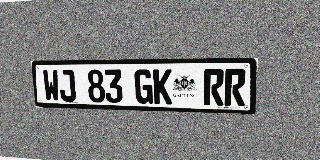3: (104, 69, 123, 103)
8: (87, 69, 105, 103)
G: (134, 69, 153, 104)
J: (58, 70, 76, 102)
K: (153, 69, 172, 104)
R: (224, 69, 246, 106), (204, 69, 224, 106)
W: (42, 70, 60, 102)
